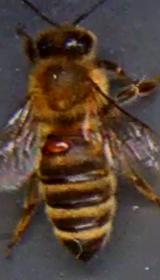varroa_mite: (42, 136, 76, 156)
